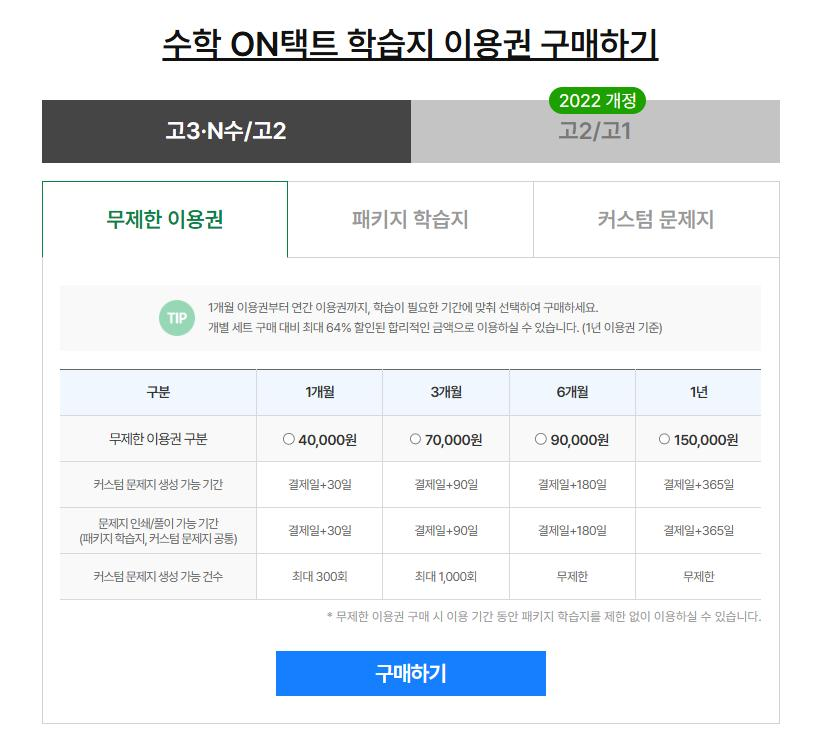button: (43, 101, 407, 168), (413, 99, 778, 161), (36, 181, 290, 257), (535, 181, 778, 255), (291, 184, 525, 256), (274, 649, 545, 697)
checkbox: (655, 432, 744, 450), (406, 430, 489, 449), (281, 431, 361, 450), (535, 432, 615, 450)
